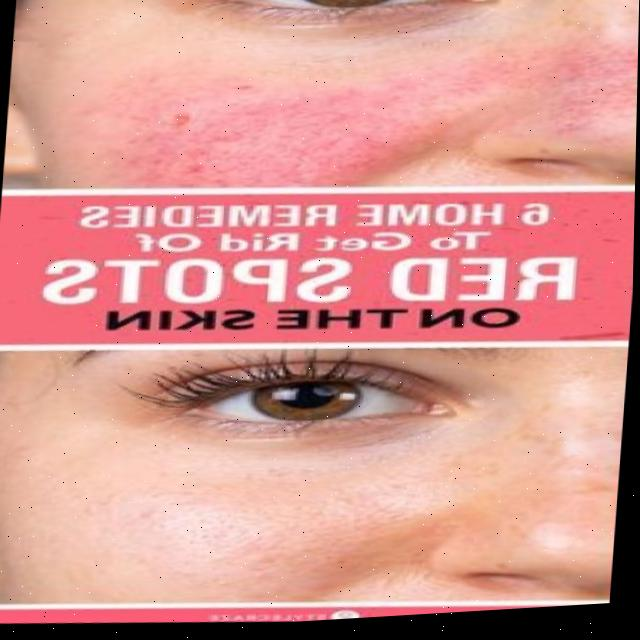Rosacea: (126, 11, 633, 196)
